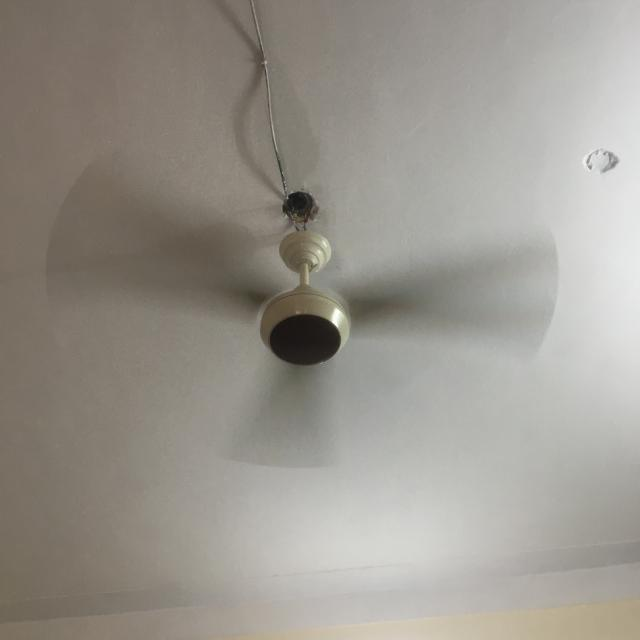on: (35, 145, 567, 472)
